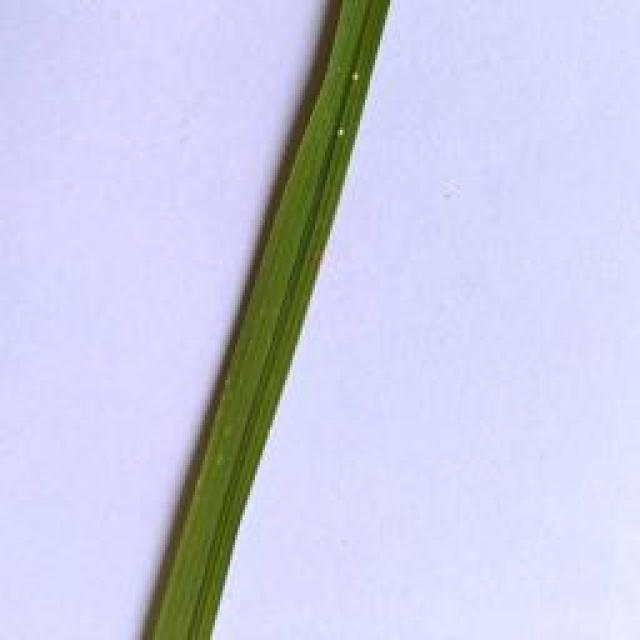Brown_Spot: (334, 120, 347, 145), (348, 70, 361, 84)
